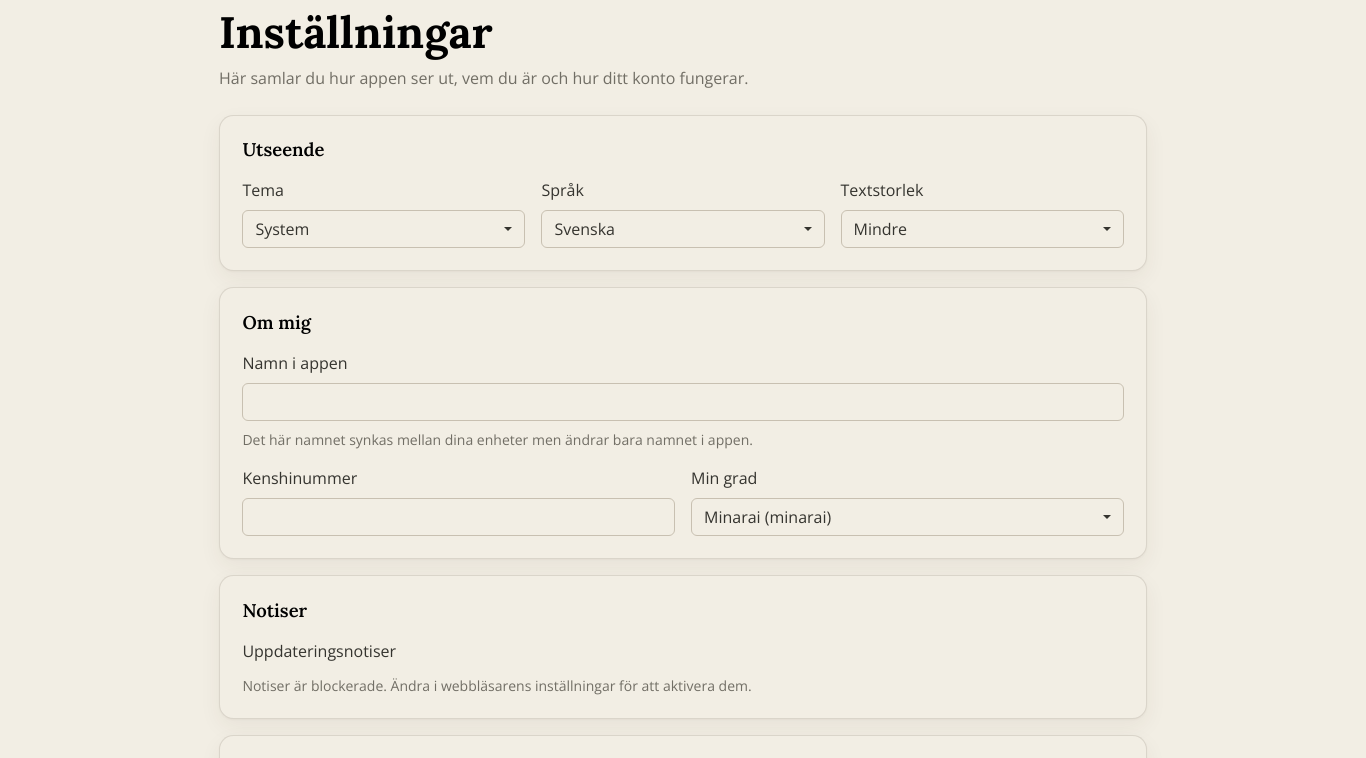
it: Settings — kenshi number › groups a whole number when leaving the field
This screenshot has width=1366, height=758.
Type "123456789" into the field labelled "Kenshinummer". click: (459, 517)
box: [242,498,675,536]
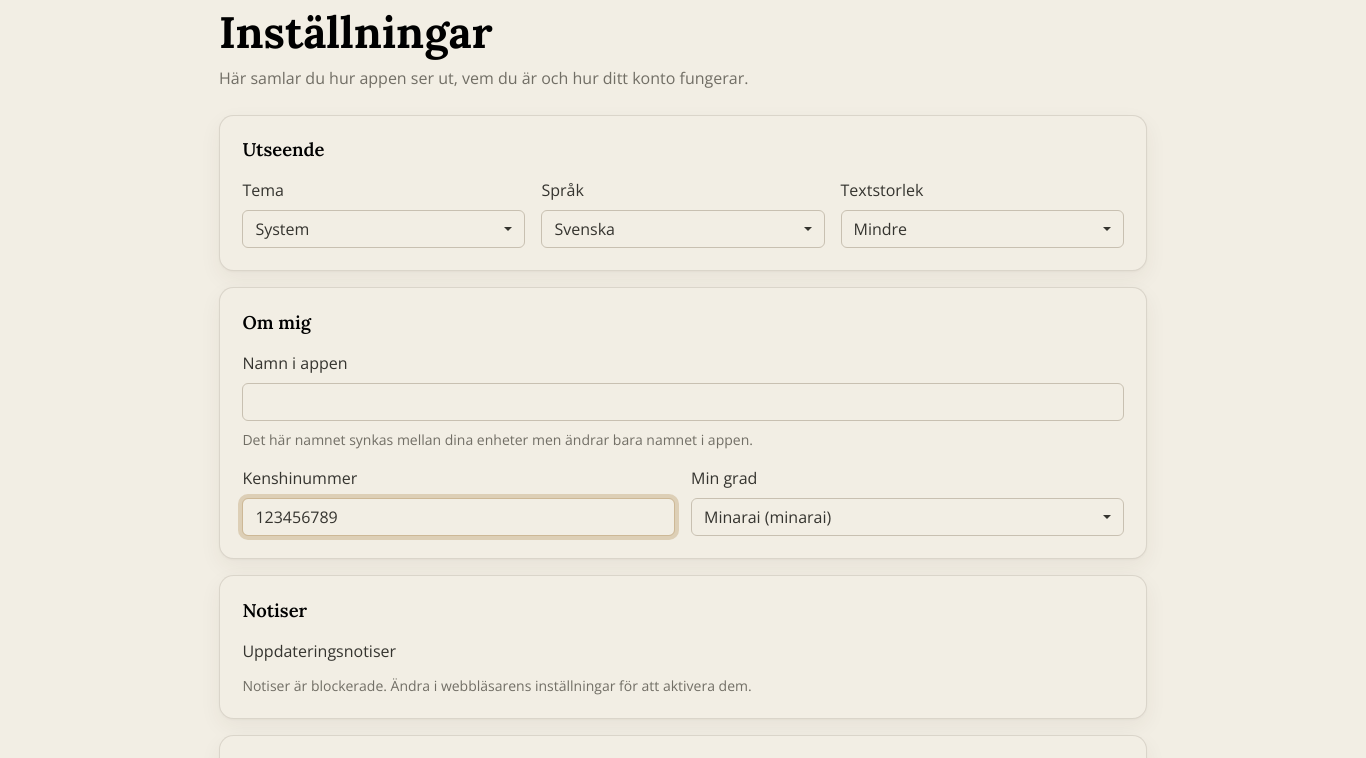
Press Tab
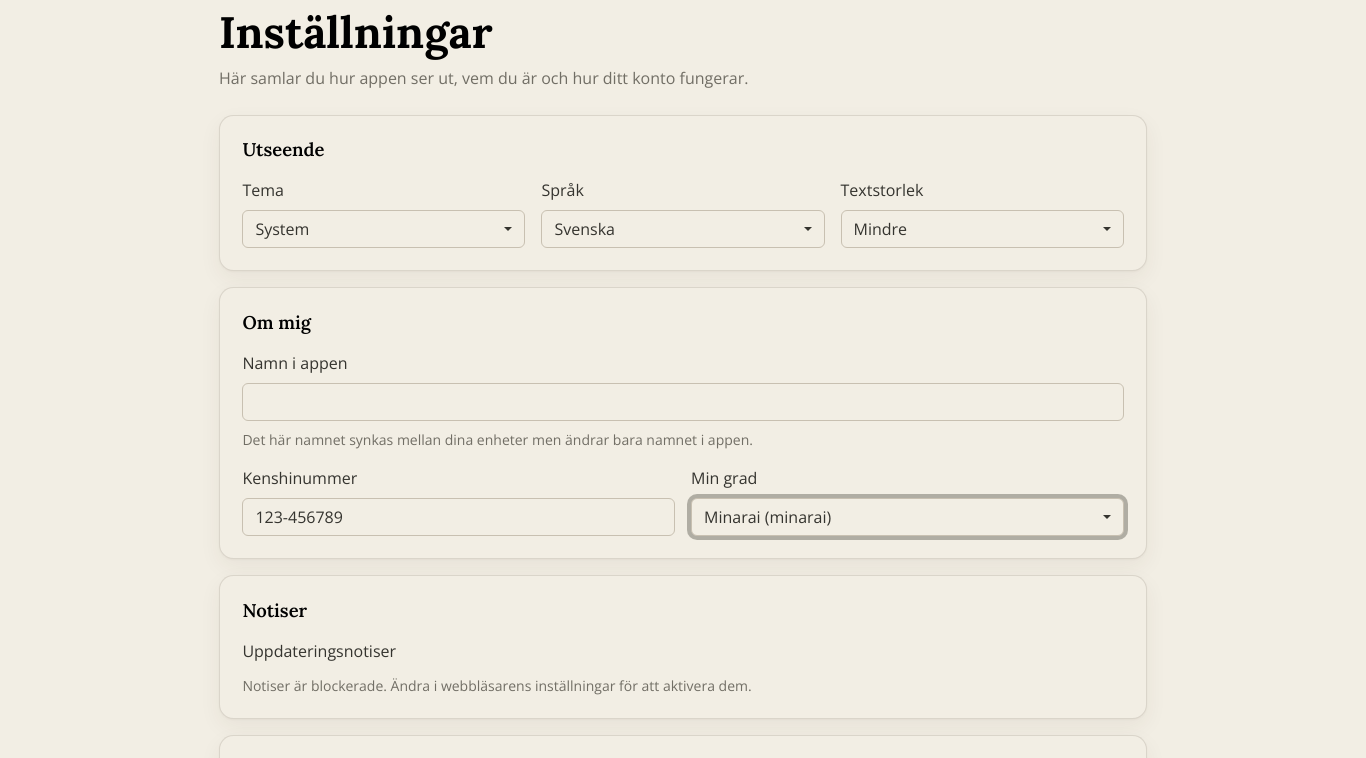
Expected: the field labelled "Kenshinummer" holds "123-456789"
Replace the text in the field labelled "Kenshinummer" with "1234567890". click: (459, 517)
box: [242,498,675,536]
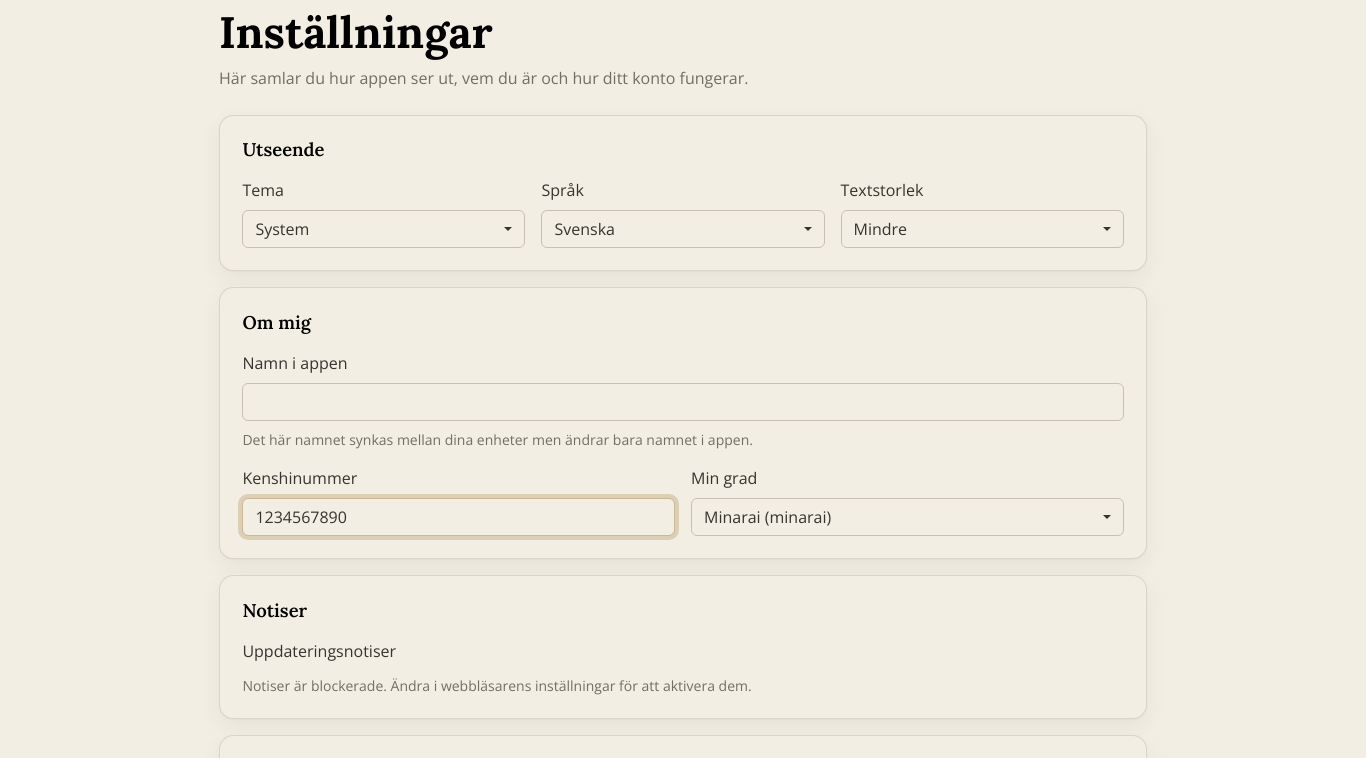
Press Tab
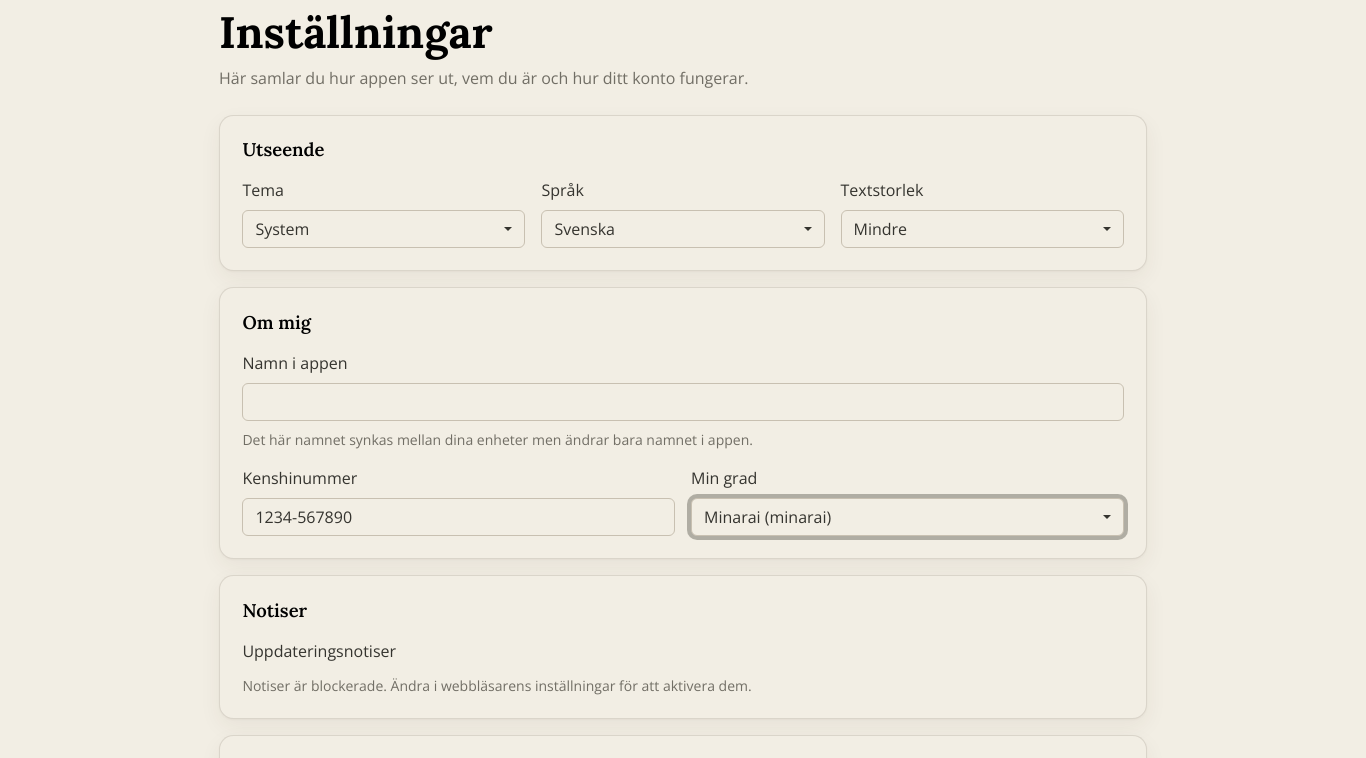
Expected: the field labelled "Kenshinummer" holds "1234-567890", [242,498,675,536]
